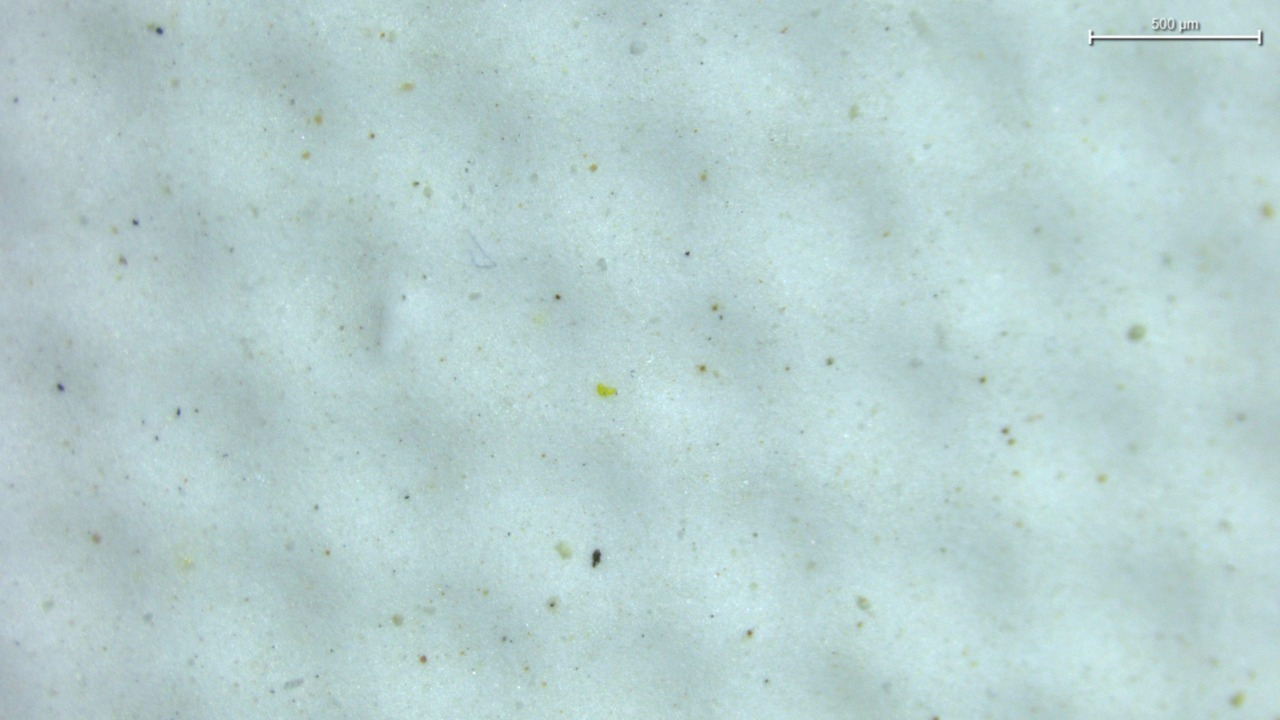microplastic_fragment: (597, 383, 616, 396)
